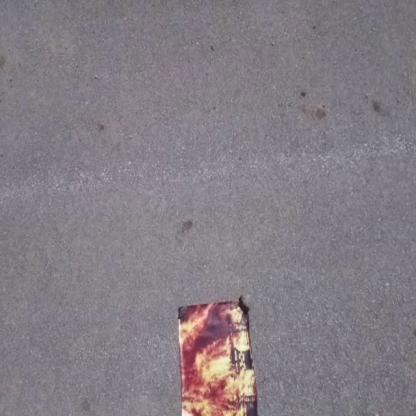fire-poster: (176, 296, 259, 415)
